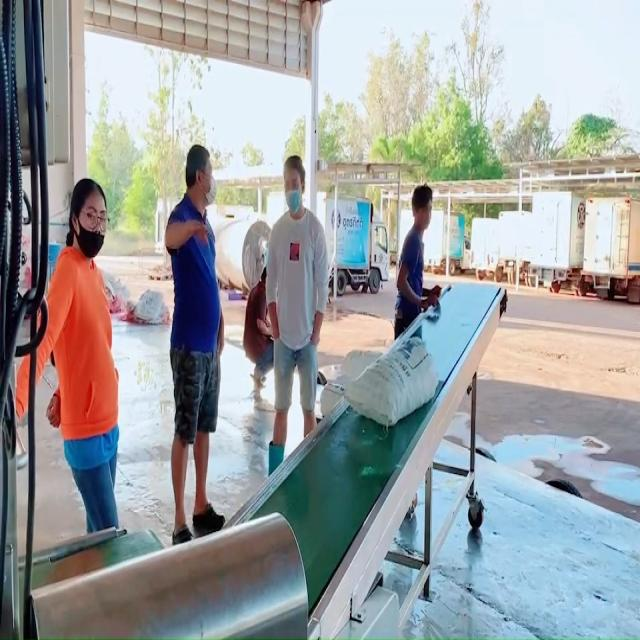ice-bag: (348, 324, 444, 436)
